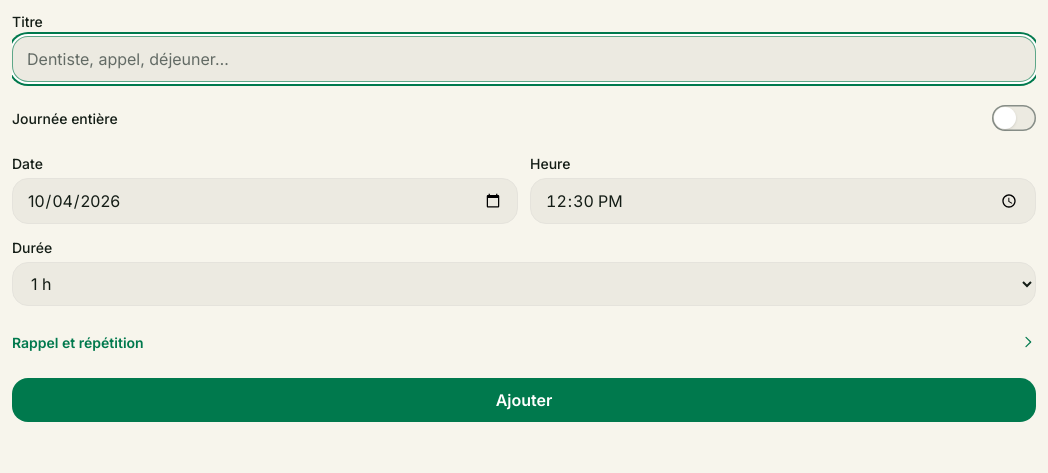
Test: EvenementForm › garde la saisie et affiche l'erreur du serveur
Type "Nuit" into the field labelled "Titre" at (524, 59), box [12,36,1036,82]
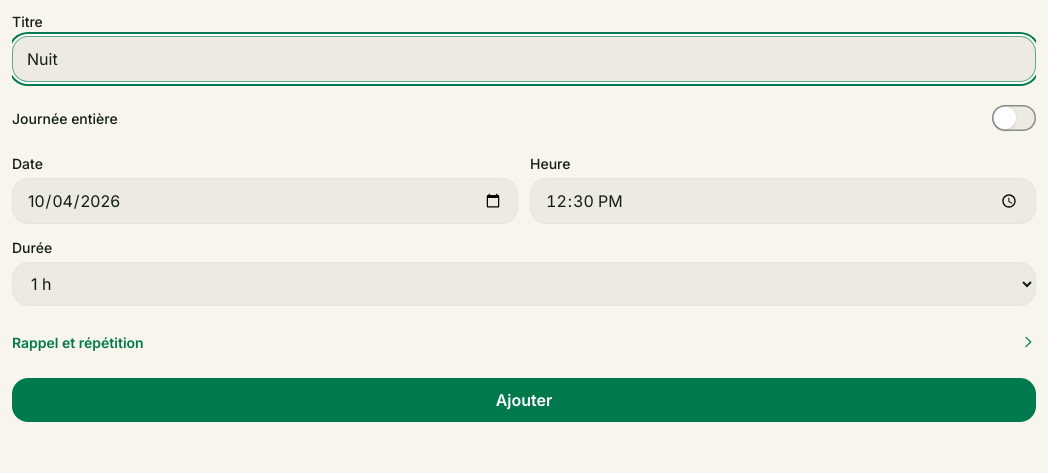
Click the button "Ajouter" at (524, 400), box [12,378,1036,422]
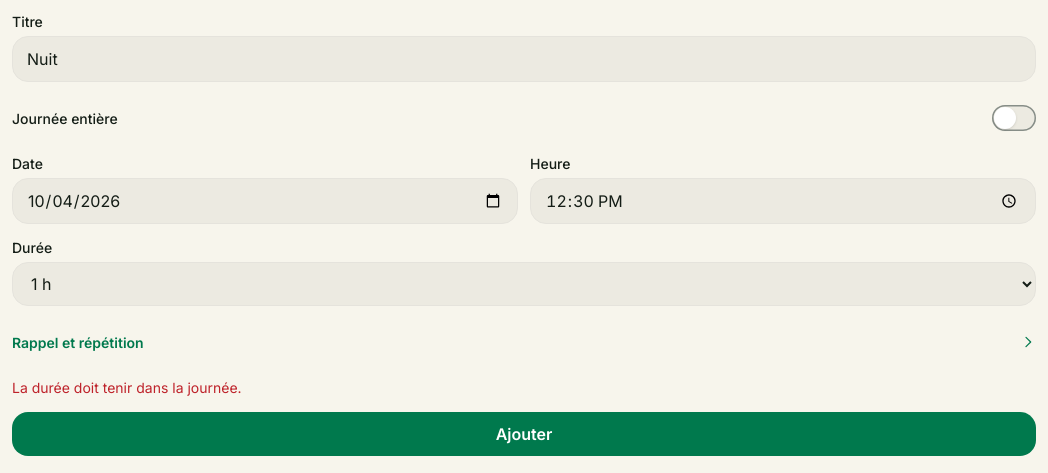
Now the message reads "La durée doit tenir dans la journée.", box [12,379,242,396]
